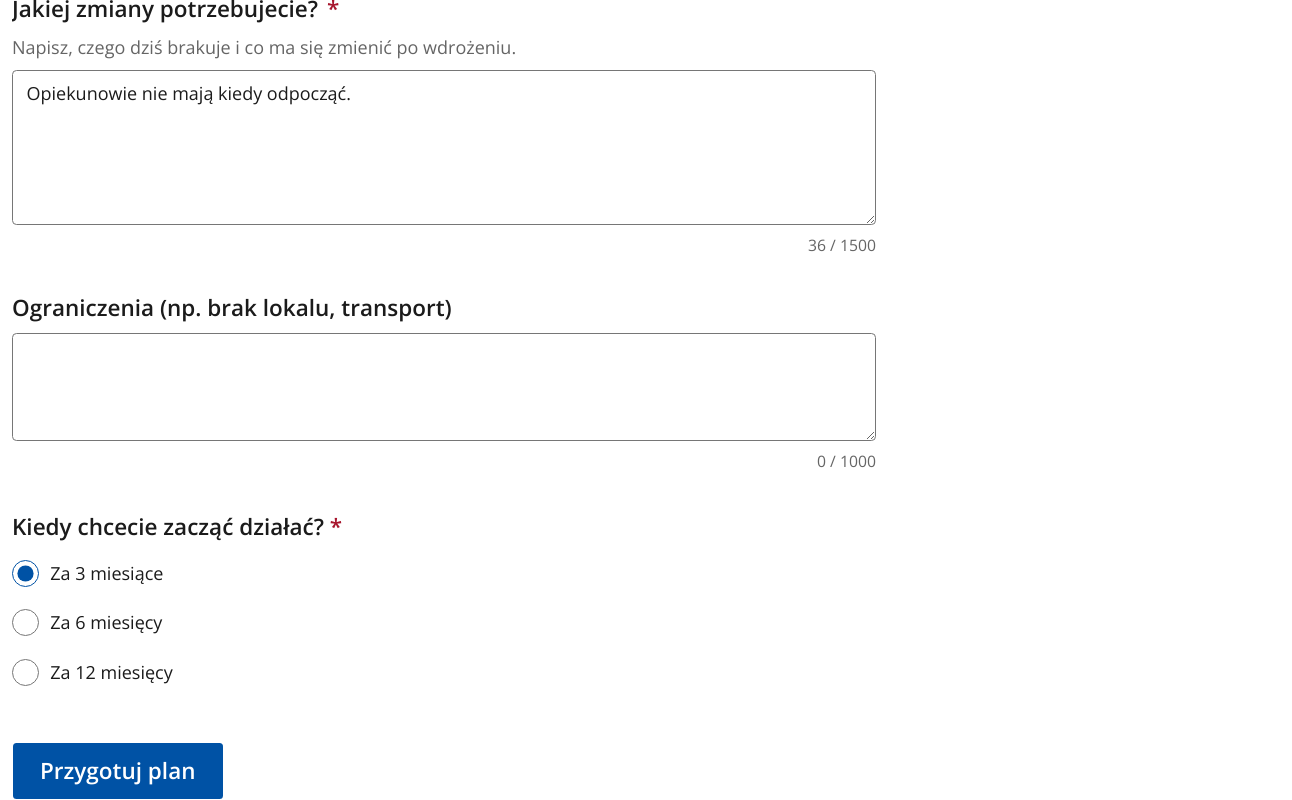
Scenario: InstitutionFlow › shows the server's message with a retry that works
(page scrolled)
Click the button "Przygotuj plan": x=118, y=771 [12,742,224,799]
(page scrolled)
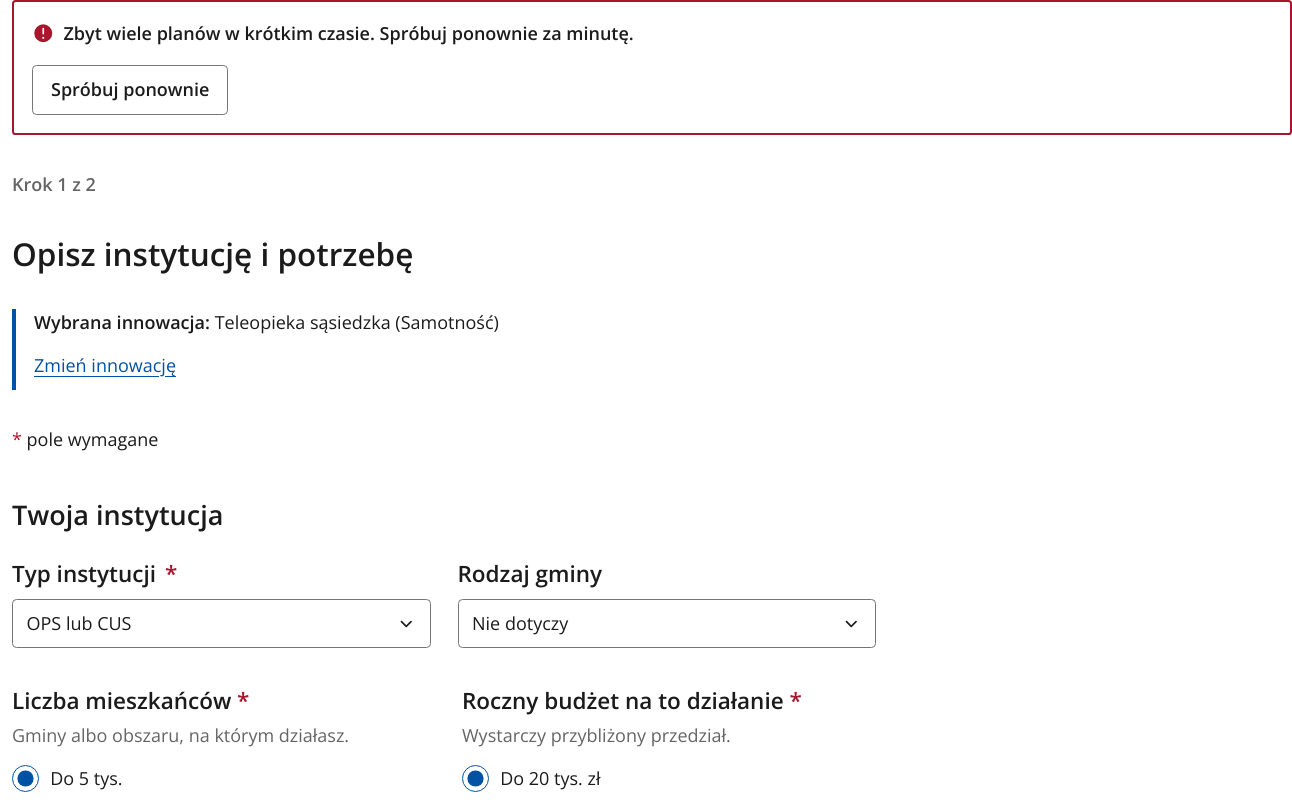
Now the message shows "Zbyt wiele planów w krótkim czasie. Spróbuj ponownie za minutę.", box [64,21,634,45]
Click the button "Spróbuj ponownie": x=130, y=90 [32,65,228,114]
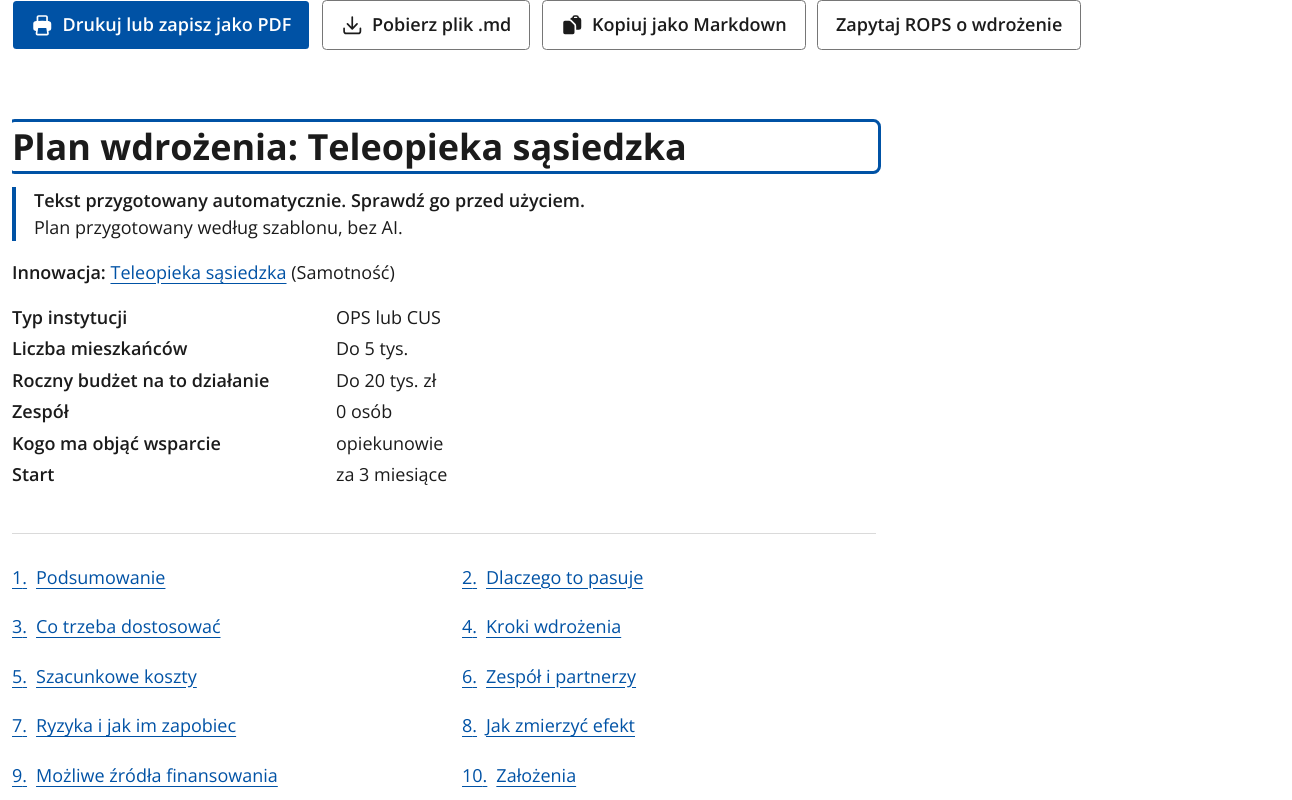
Now the heading "Plan wdrożenia: Teleopieka sąsiedzka" is shown, box [12,122,687,171]
